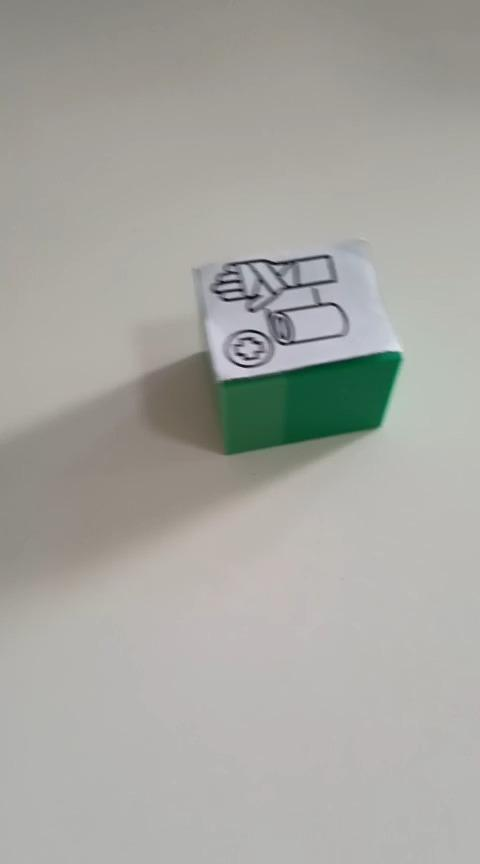Bandages: (190, 235, 403, 454)
